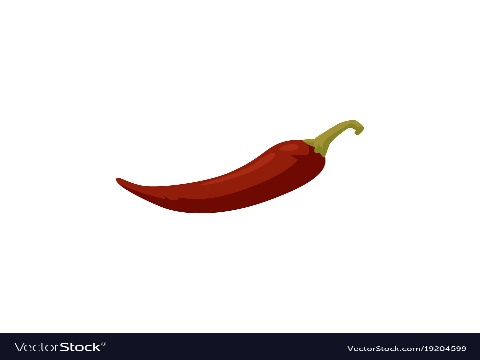Chilli: (102, 115, 367, 229)
